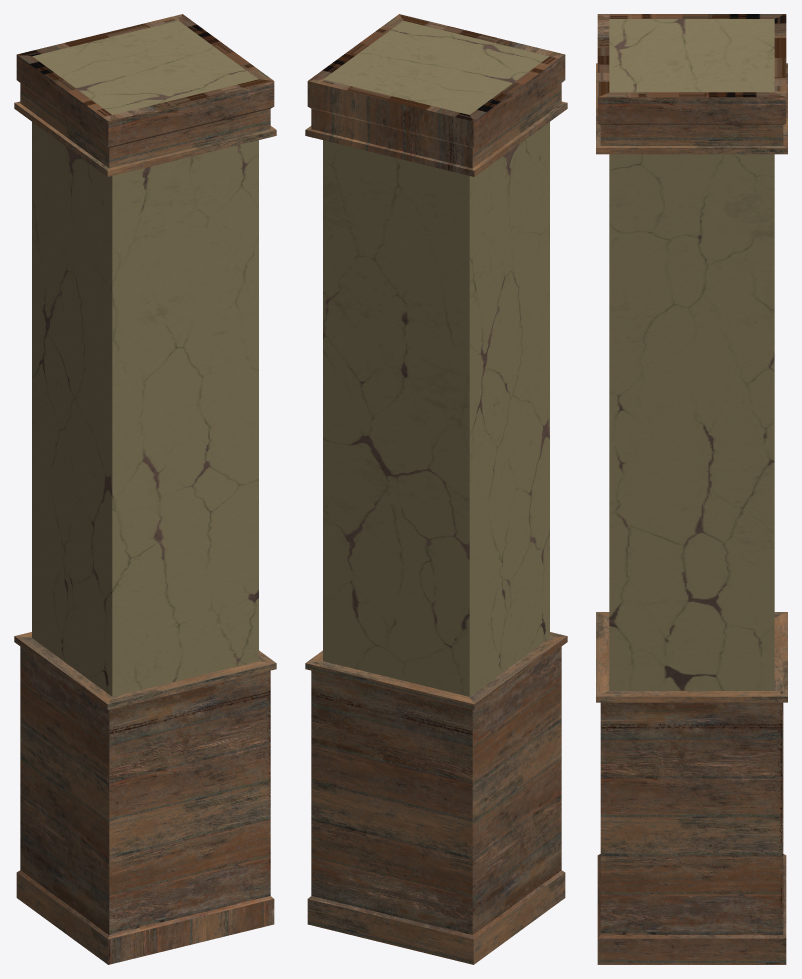
Rendered from Pillar.fbx.
3 renders of one model, left to right at view 1: azimuth 30°, elevation 25°; view 2: azimuth 150°, elevation 25°; view 3: azimuth 270°, elevation 25°, orthographic. The views are drawn at different scales.
Parts seen in each view (by area): view 1: Pillar.001; view 2: Pillar.001; view 3: Pillar.001.
Part boxes in pixels (<box>): Pillar.001: <box>14,14,276,964</box>; Pillar.001: <box>305,14,567,964</box>; Pillar.001: <box>596,14,787,964</box>.
Size of the model in its own units: 0.6918 by 0.6616 by 3.3.
Materials: 2 (2 with a texture image).
